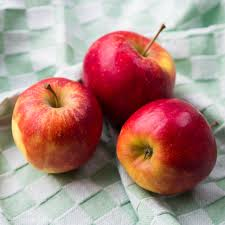apple: (114, 98, 219, 196), (9, 77, 101, 174), (83, 34, 179, 117)
